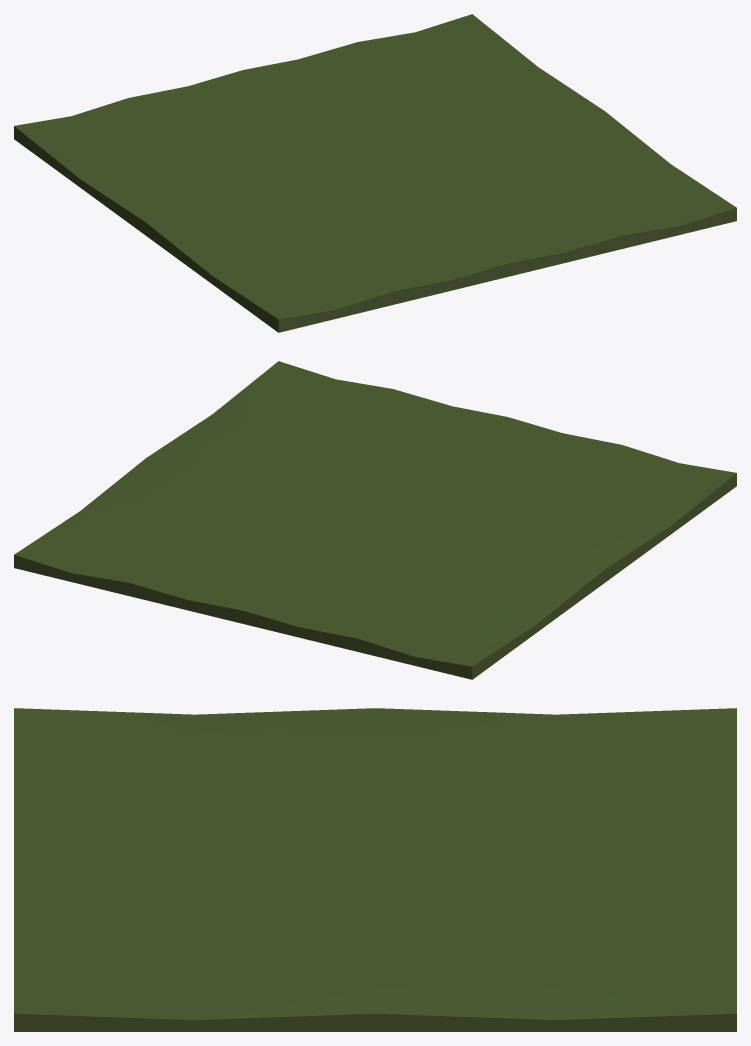
3 renders of one model, top to bottom at view 1: azimuth 30°, elevation 25°; view 2: azimuth 150°, elevation 25°; view 3: azimuth 270°, elevation 25°, orthographic. The views are drawn at different scales.
Visible parts, largest first — view 1: SM_Env_Grass_01; view 2: SM_Env_Grass_01; view 3: SM_Env_Grass_01.
Part boxes in pixels (x1,y1,x2,y2): SM_Env_Grass_01: (14,14,736,332); SM_Env_Grass_01: (14,361,736,679); SM_Env_Grass_01: (14,708,736,1031).
Size of the model in its own units: 5 by 0.1384 by 5.
Materials: 1 (1 with a texture image).
